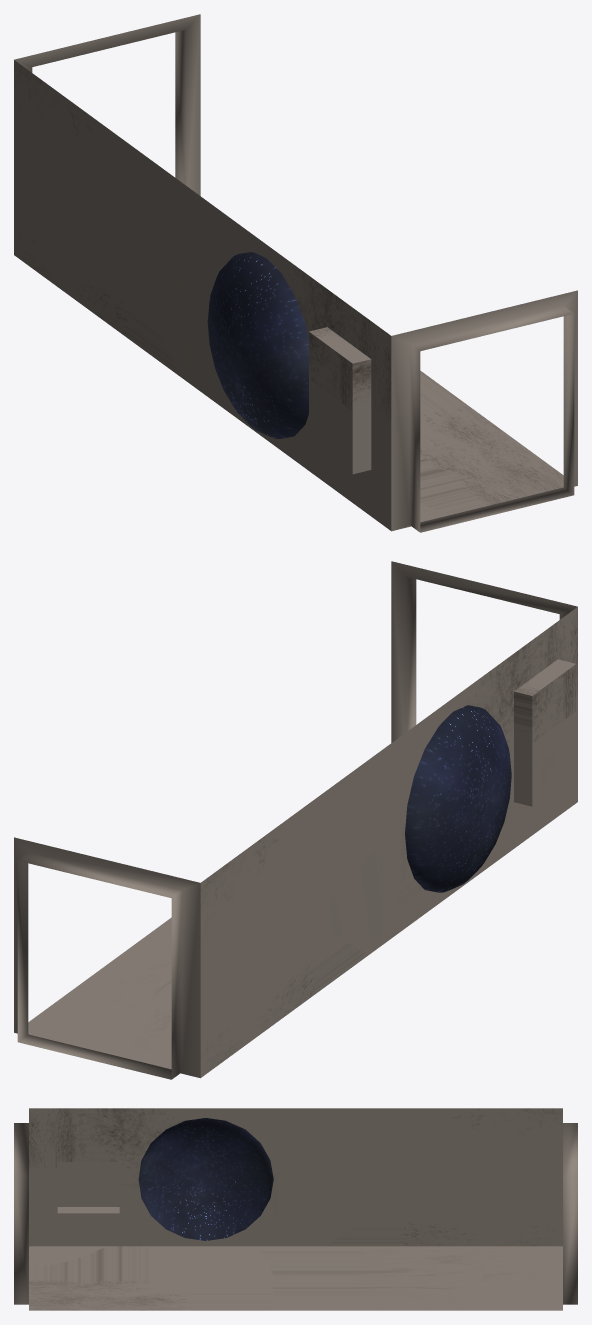
Rendered from Room 2 Fix.FBX.
The picture shows the model from 3 angles, top to bottom: view 1: azimuth 30°, elevation 25°; view 2: azimuth 150°, elevation 25°; view 3: azimuth 270°, elevation 25°; orthographic projection. The views are drawn at different scales.
Visible parts, largest first — view 1: room_5; view 2: room_5; view 3: room_5.
Boxes of the visible parts, <box> form: room_5: <box>14,14,577,532</box>; room_5: <box>14,561,577,1079</box>; room_5: <box>14,1108,577,1310</box>.
Size of the model in its own units: 23.64 by 20 by 73.97.
Materials: 2 (2 with a texture image).
